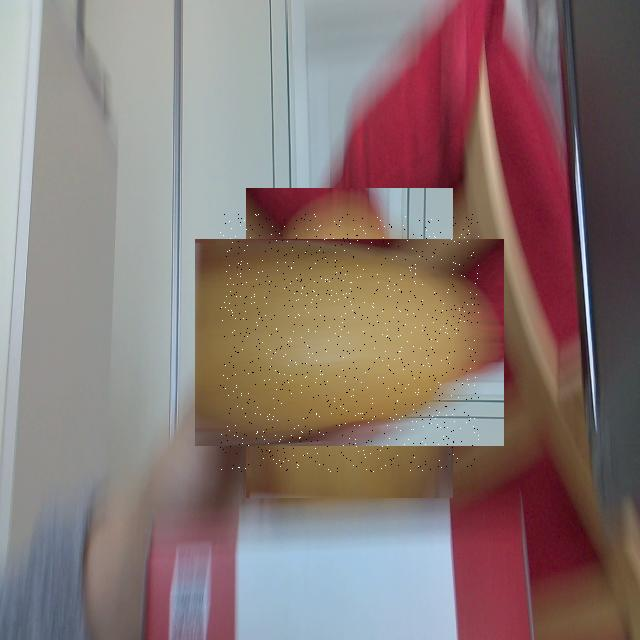pear: (220, 214, 479, 472)
